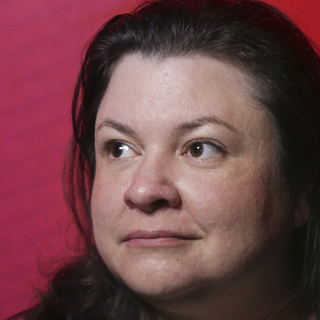eye: (172, 134, 235, 164), (93, 134, 142, 162)
